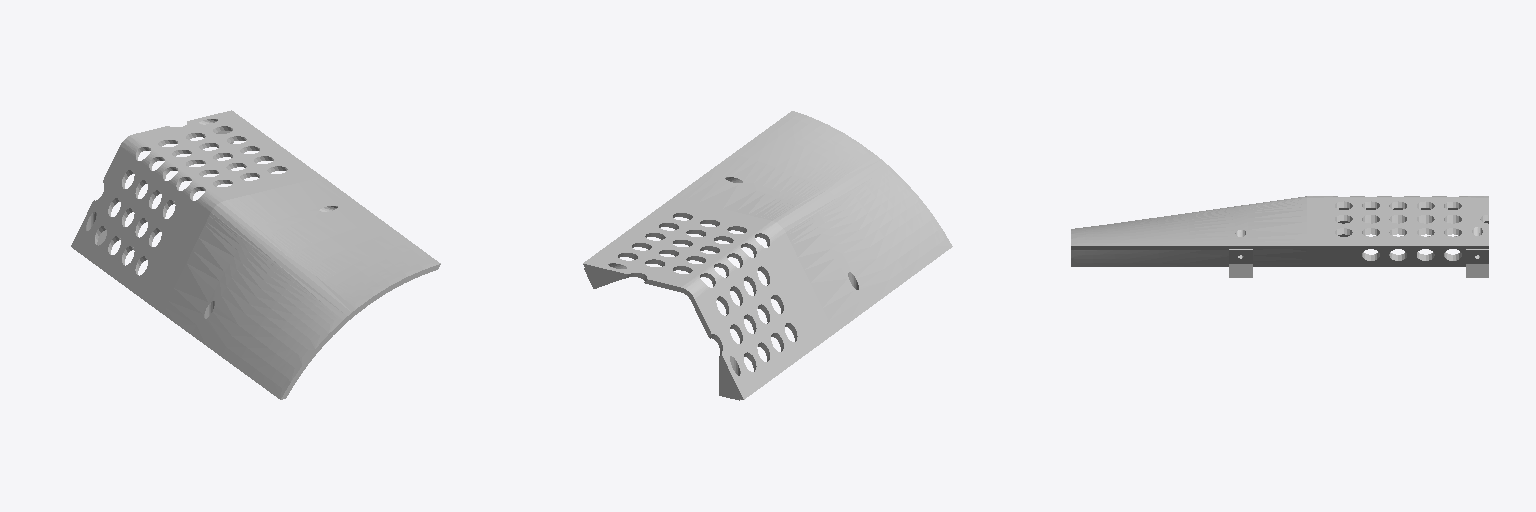
File: Light_Cured_Case.03.obj
The picture shows the model from 3 angles: view 1: azimuth 30°, elevation 25°; view 2: azimuth 150°, elevation 25°; view 3: azimuth 270°, elevation 25°; orthographic projection.
Parts seen in each view (by area): view 1: 實體1; view 2: 實體1; view 3: 實體1.
Part boxes in pixels (left/top/right/bottom): 實體1: left=71, top=110, right=440, bottom=399; 實體1: left=583, top=111, right=952, bottom=400; 實體1: left=1071, top=196, right=1488, bottom=277.
Bounding box in the file's own units: 0.1022 × 0.06 × 0.23.